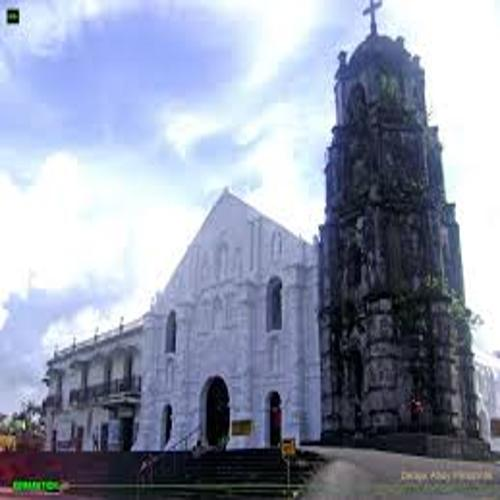Daraga Church: (135, 3, 485, 464)
